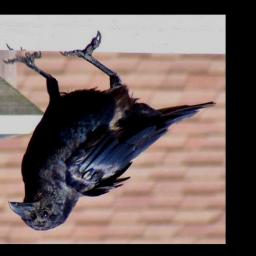Crow: (3, 30, 215, 231)
